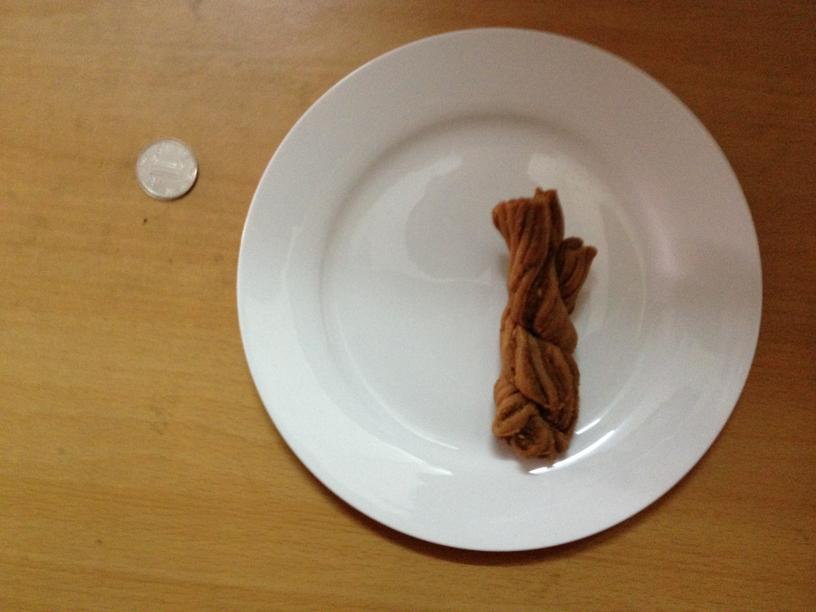coin: (131, 137, 199, 201)
fired_dough_twist: (482, 193, 592, 460)
